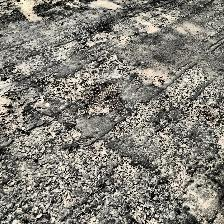pothole: (84, 80, 125, 116)
